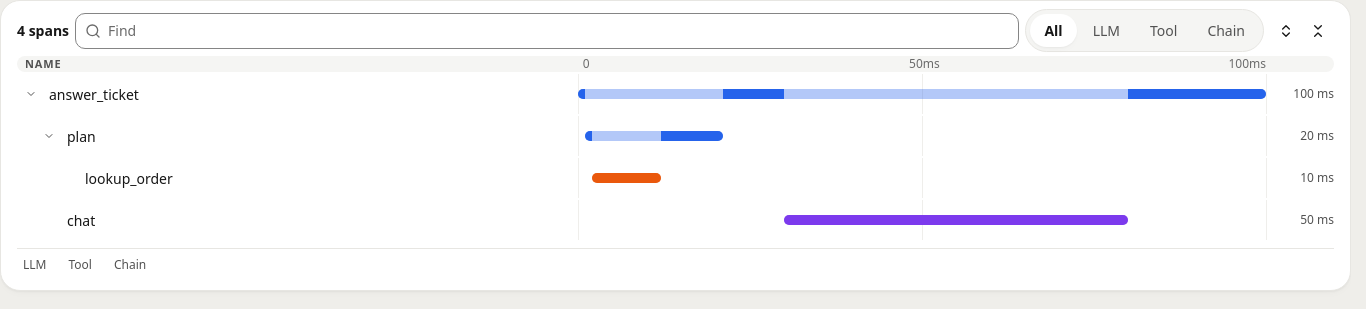
Scenario: SpanWaterfall toolbar › filters by kind, keeping the ancestors as context rows
Click the radio button labelled "Tool": {"x": 1164, "y": 30} [1136,14,1191,47]
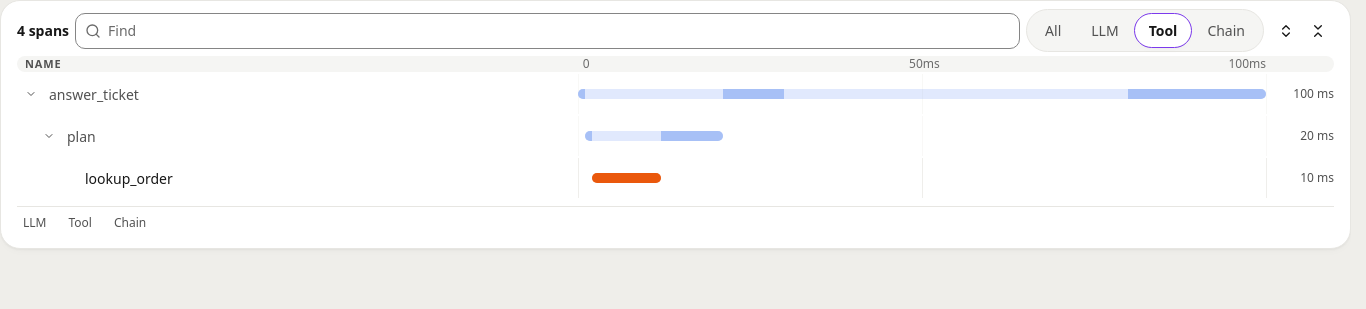
Now the list item with id "span-row-chat" is gone
